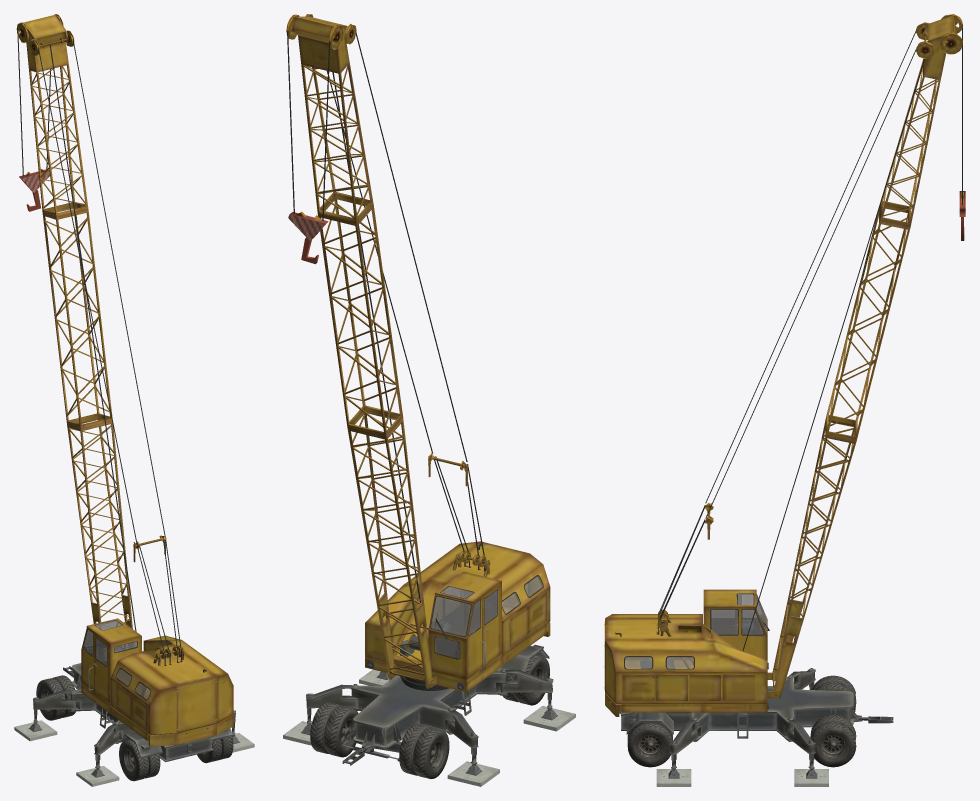
Rendered from crane.glb.
3 views of the same model, side by side, from view 1: azimuth 30°, elevation 25°; view 2: azimuth 150°, elevation 25°; view 3: azimuth 270°, elevation 25° (orthographic). The views are drawn at different scales.
Parts seen in each view (by area): view 1: boom_1_Material.004_0, crane_Material.002_0, base_frame_Material_0, right_rear_wheel_2_Material.001_0, Plane.006_windows_0; view 2: boom_1_Material.004_0, crane_Material.002_0, base_frame_Material_0, right_rear_wheel_2_Material.001_0, Plane.006_windows_0, Plane.006_rubber_0; view 3: crane_Material.002_0, boom_1_Material.004_0, base_frame_Material_0, right_rear_wheel_2_Material.001_0, Plane.006_windows_0.
Boxes of the visible parts, bbox=[...] form: boom_1_Material.004_0: bbox=[16, 14, 181, 665]; crane_Material.002_0: bbox=[81, 618, 233, 746]; base_frame_Material_0: bbox=[14, 663, 254, 786]; right_rear_wheel_2_Material.001_0: bbox=[36, 675, 233, 781]; Plane.006_windows_0: bbox=[83, 620, 150, 699]; boom_1_Material.004_0: bbox=[286, 14, 485, 688]; crane_Material.002_0: bbox=[365, 541, 550, 692]; base_frame_Material_0: bbox=[283, 644, 575, 786]; right_rear_wheel_2_Material.001_0: bbox=[310, 655, 549, 778]; Plane.006_windows_0: bbox=[431, 576, 542, 658]; Plane.006_rubber_0: bbox=[430, 575, 543, 659]; crane_Material.002_0: bbox=[604, 589, 779, 716]; boom_1_Material.004_0: bbox=[658, 14, 965, 697]; base_frame_Material_0: bbox=[619, 668, 893, 786]; right_rear_wheel_2_Material.001_0: bbox=[627, 675, 856, 767]; Plane.006_windows_0: bbox=[625, 593, 766, 668].
Size of the model in its own units: 6.13 by 23.44 by 10.67.
Materials: 7 (7 with a texture image).
